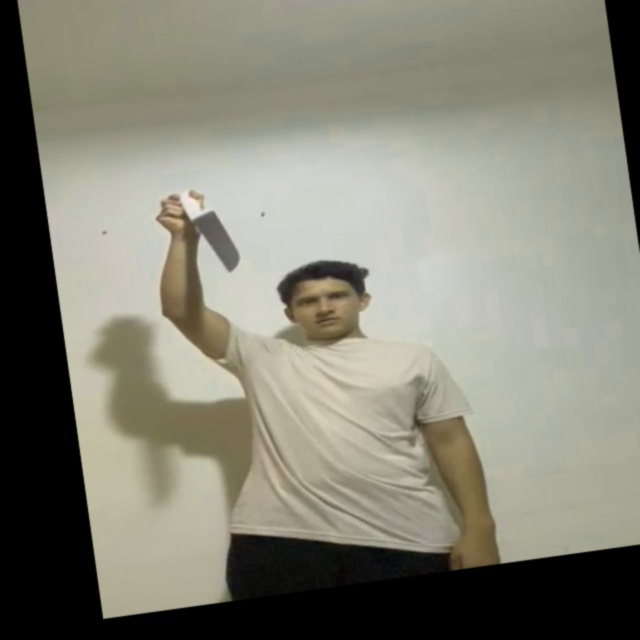Sharp-Object: (196, 207, 247, 277)
